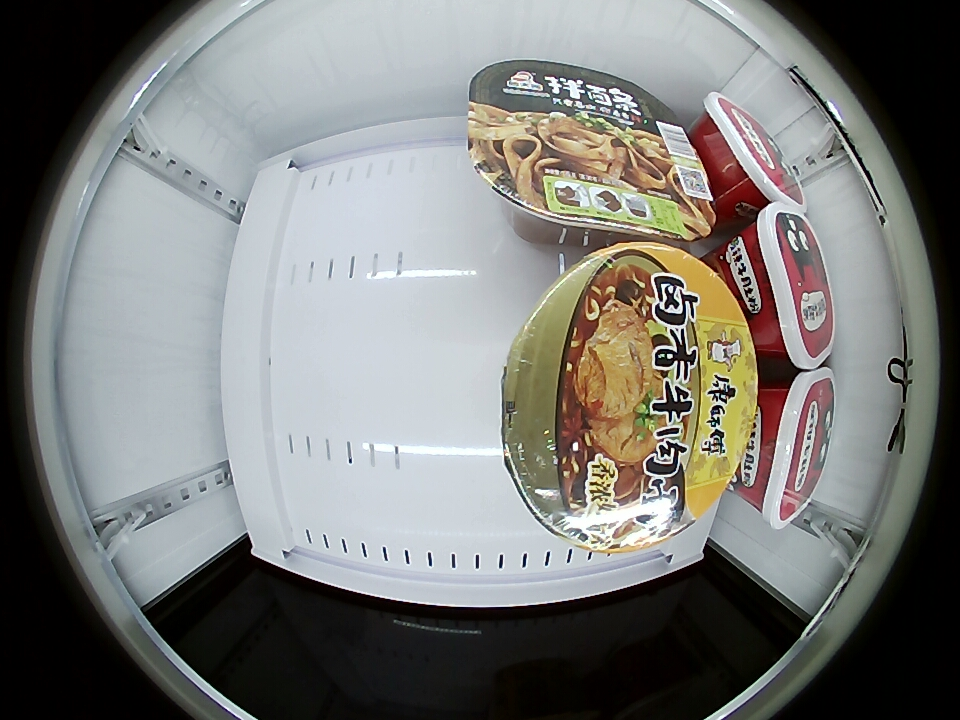gudasao: (465, 59, 716, 245)
luxiangniurou: (500, 241, 758, 554)
niudufen: (738, 203, 834, 370), (748, 369, 835, 529), (698, 93, 806, 215)
